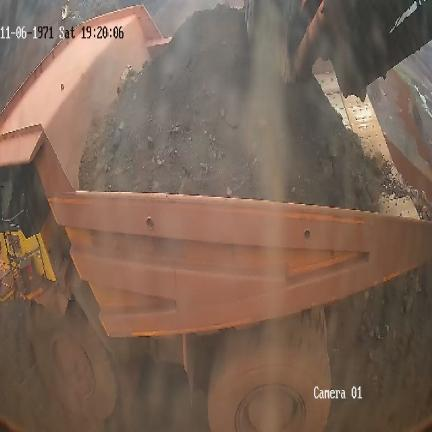pile: (80, 4, 375, 210), (324, 258, 431, 432)
